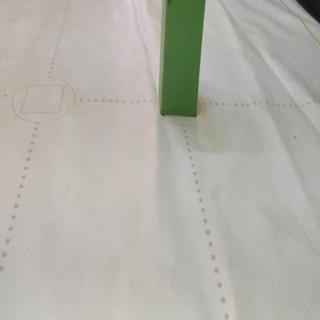greenbox: (159, 0, 206, 118)
